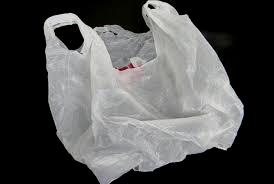Plastic: (38, 0, 250, 183)
